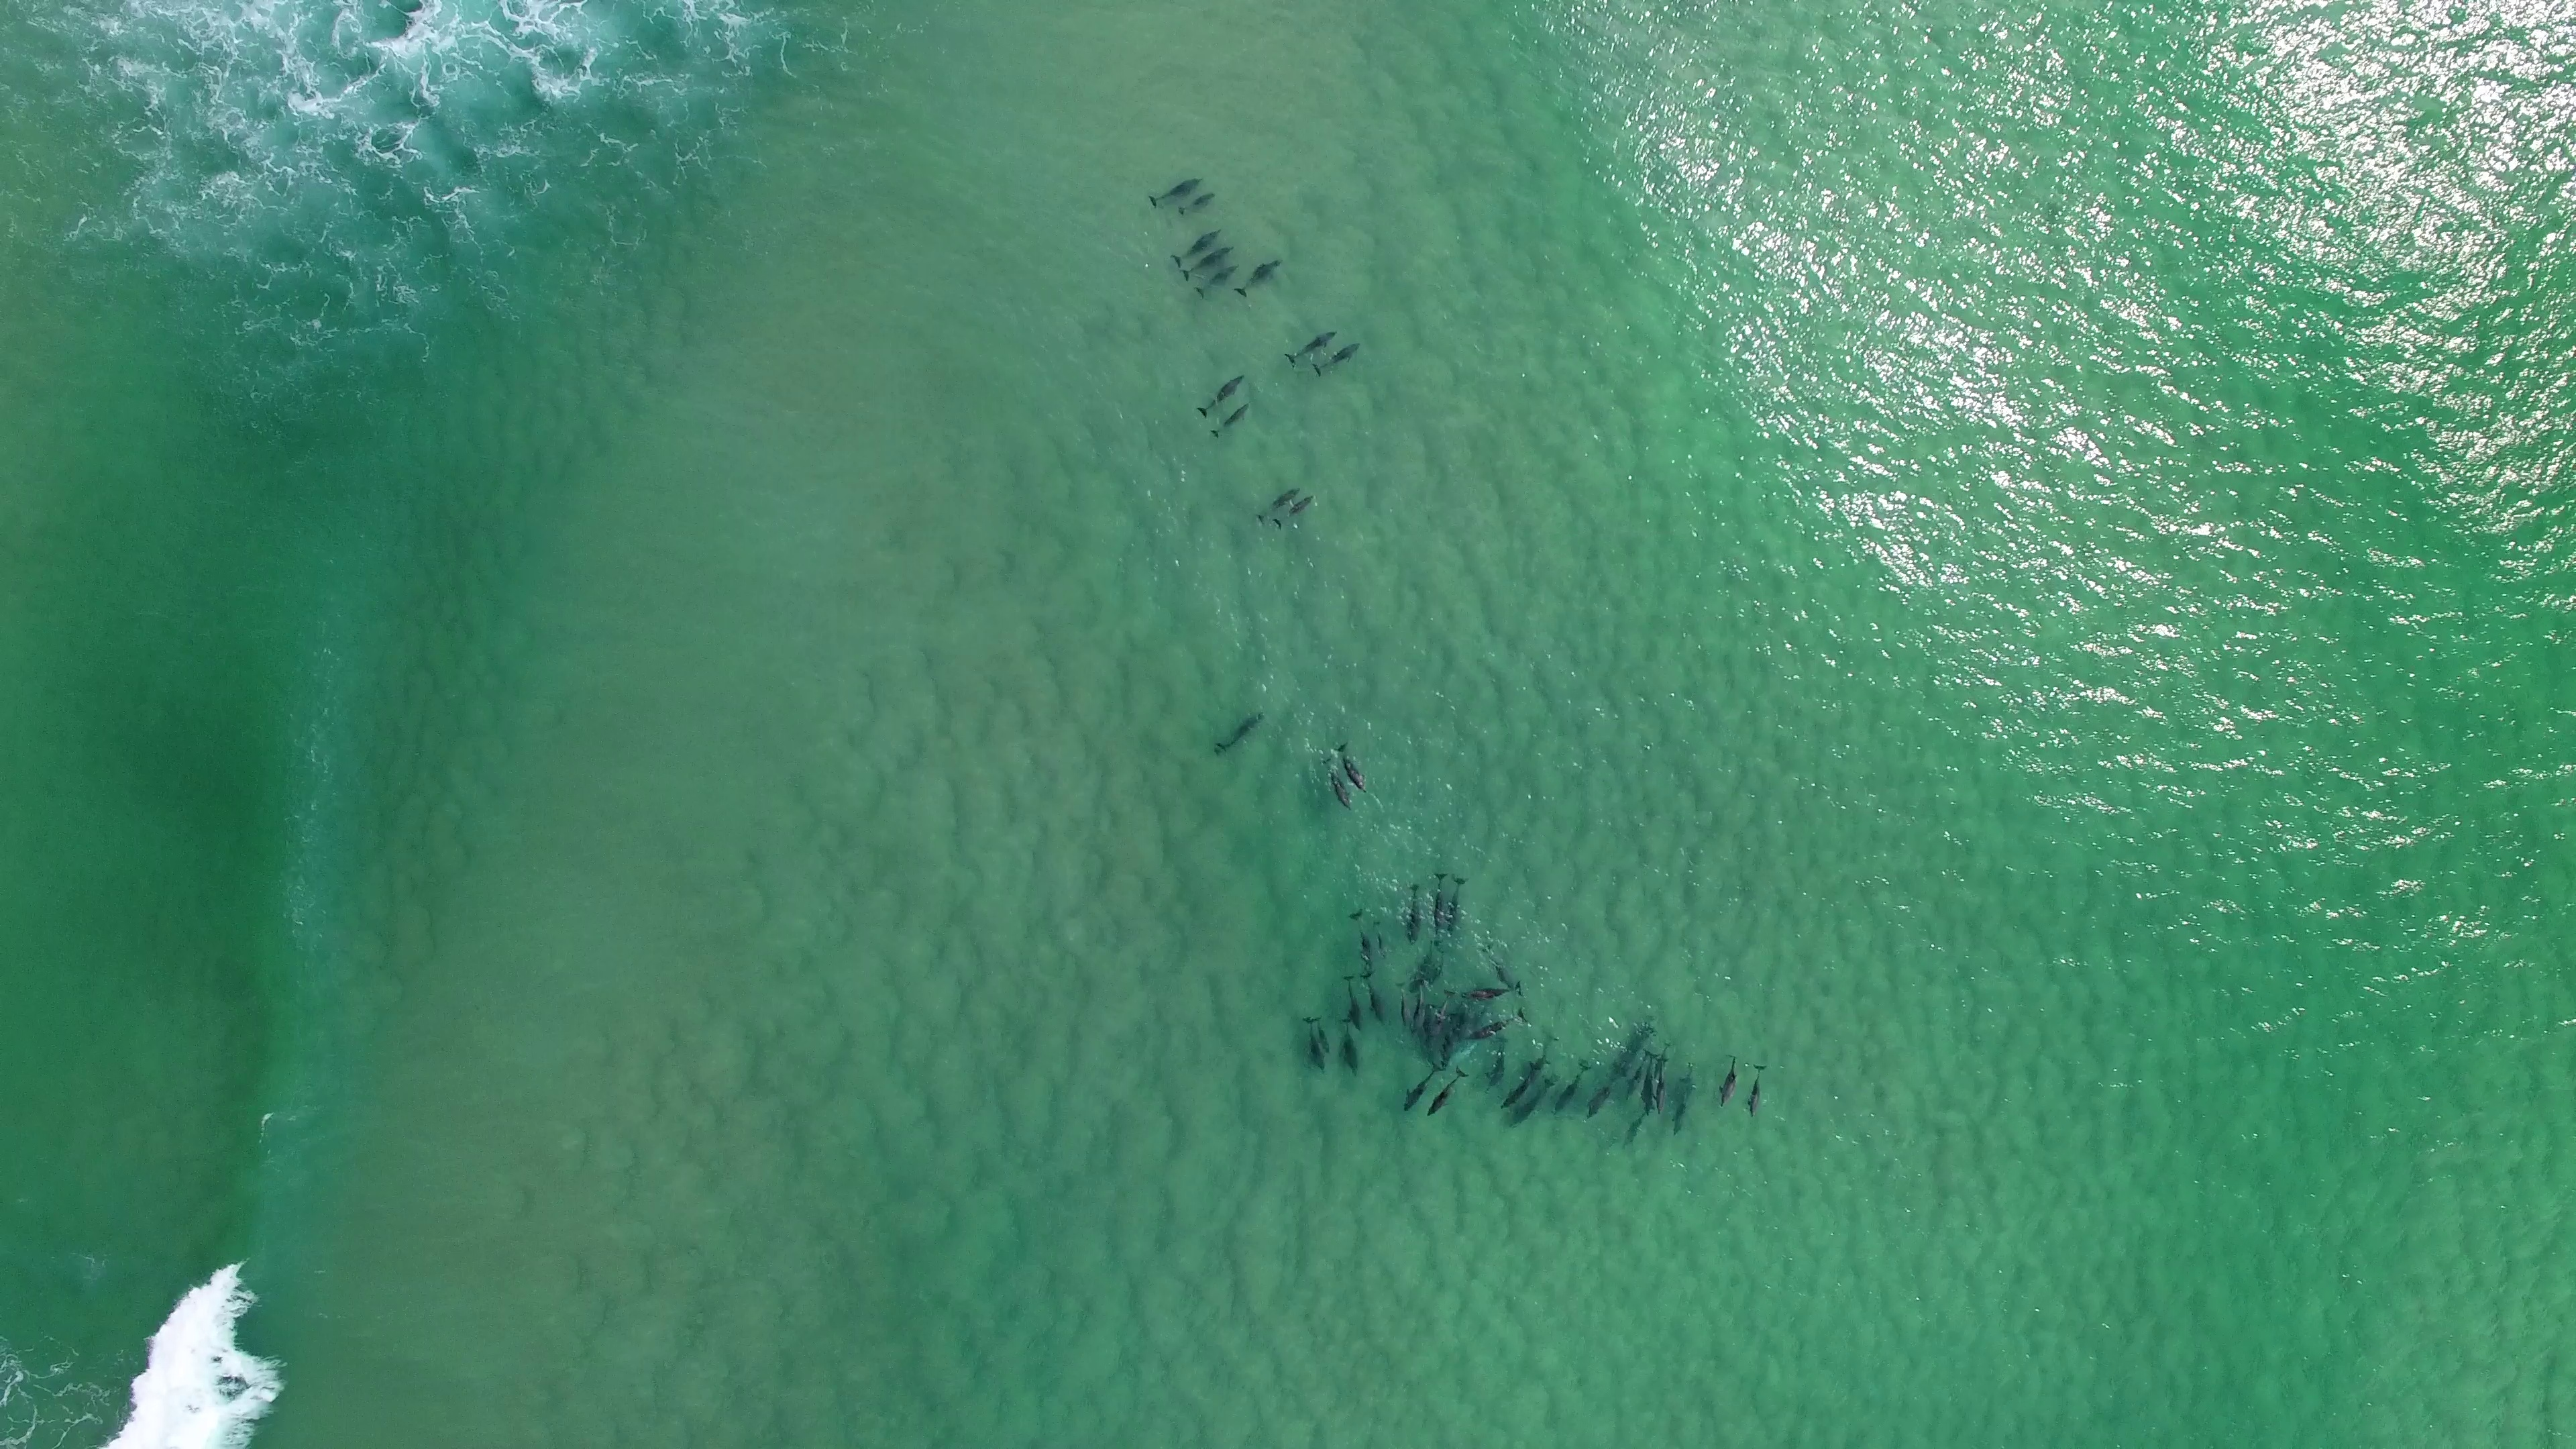dolphin: (1191, 370, 1247, 421), (1509, 1074, 1555, 1132), (1610, 1023, 1652, 1081), (1214, 711, 1265, 755), (1284, 327, 1341, 366), (1499, 1060, 1543, 1109), (1467, 1007, 1529, 1042), (1171, 225, 1223, 267), (1182, 242, 1237, 281), (1146, 172, 1205, 207), (1238, 255, 1284, 299), (1426, 1067, 1465, 1118), (1307, 340, 1361, 377), (1336, 741, 1371, 794), (1553, 1060, 1589, 1113), (1320, 755, 1353, 809), (1674, 1062, 1697, 1136), (1405, 1063, 1440, 1111), (1460, 978, 1527, 1003), (1210, 400, 1253, 439), (1346, 913, 1375, 971), (1477, 945, 1516, 987), (1359, 973, 1389, 1026), (1430, 989, 1456, 1049), (1196, 264, 1240, 299), (1585, 1074, 1621, 1118), (1274, 492, 1316, 527), (1484, 1037, 1511, 1093), (1256, 487, 1300, 520), (1445, 874, 1468, 938), (1302, 1016, 1327, 1074), (1716, 1054, 1741, 1109), (1341, 973, 1364, 1031), (1626, 1047, 1652, 1097), (1339, 1017, 1361, 1076), (1746, 1063, 1766, 1120), (1405, 883, 1421, 950), (1622, 1111, 1647, 1152), (1440, 1012, 1458, 1067), (1178, 189, 1217, 214), (1644, 1049, 1658, 1115), (1431, 874, 1444, 945), (1430, 943, 1451, 984), (1414, 978, 1428, 1039), (1394, 982, 1410, 1033), (1654, 1054, 1667, 1118), (1371, 920, 1387, 959), (1316, 1016, 1330, 1054)
